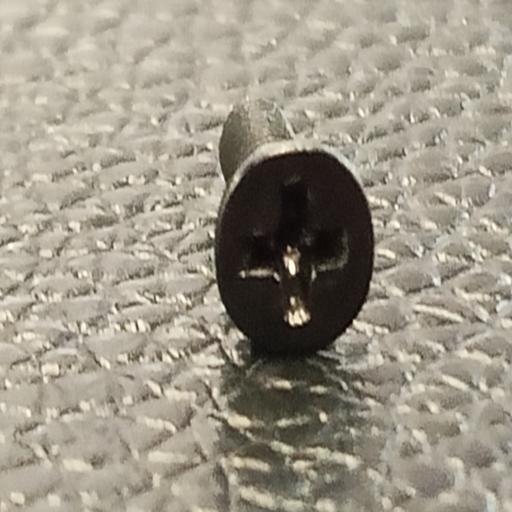Phillips: (212, 136, 376, 369)
